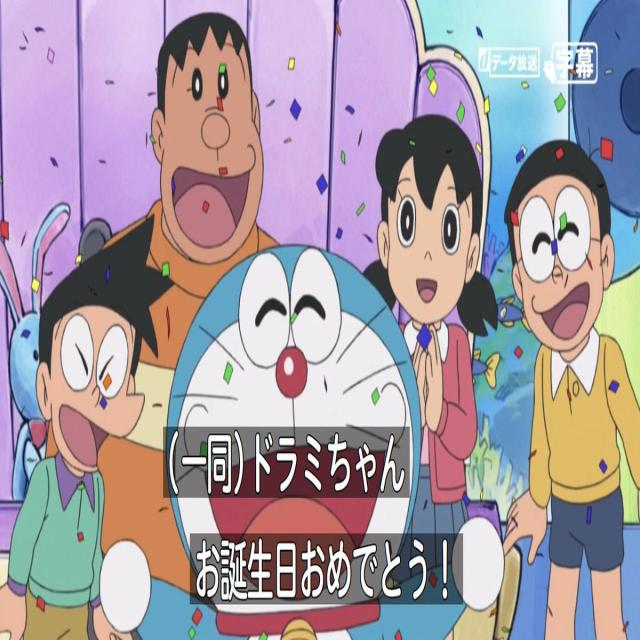doraemon: (160, 239, 430, 639)
jaian: (147, 8, 274, 306)
nobita: (504, 109, 632, 399)
shizuka: (364, 98, 507, 377)
suneo: (24, 216, 165, 546)
